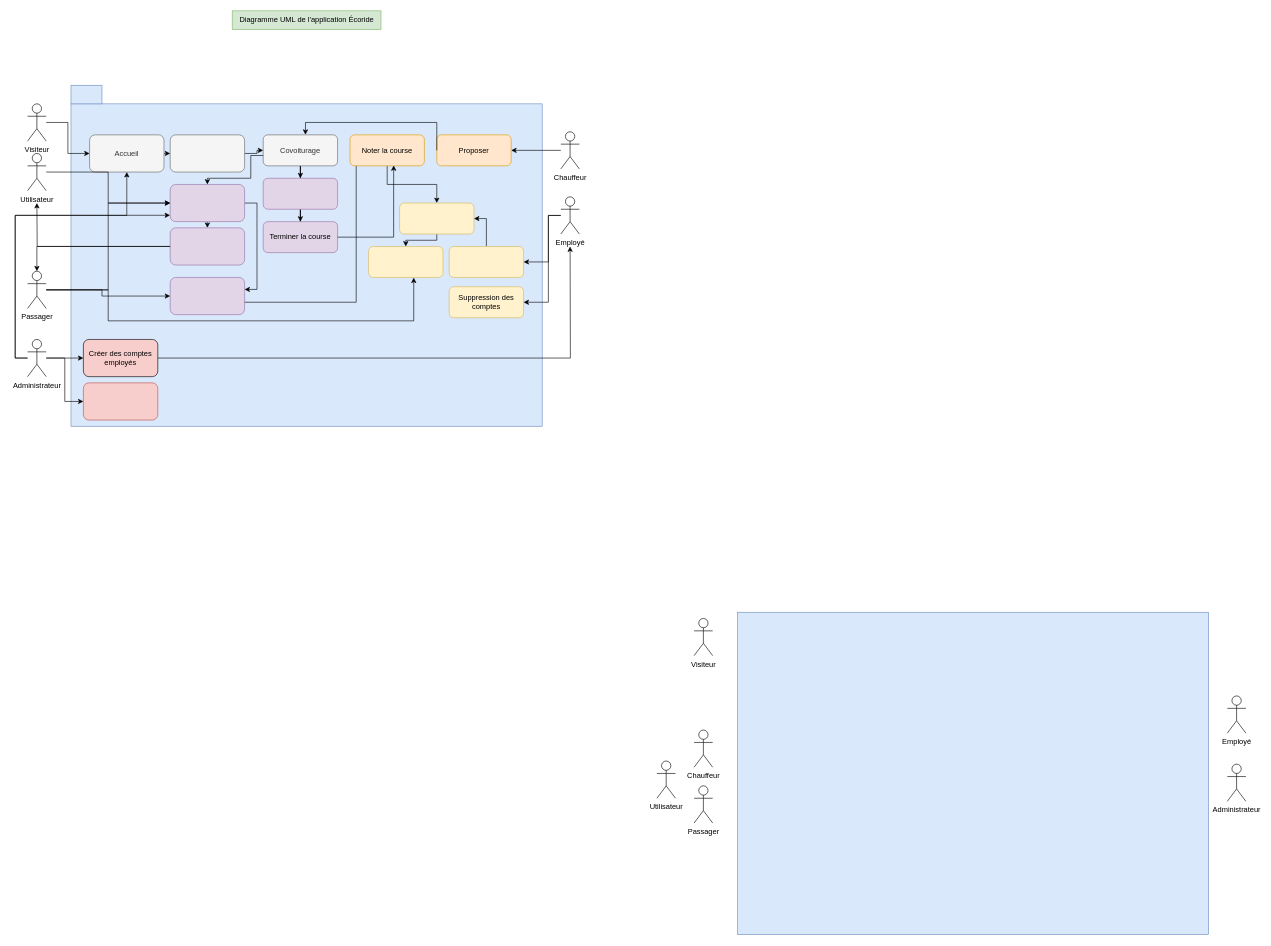
The diagram is 1271 pixels wide and 946 high, and some of its shapes have lost their labels. Each missing label, with the box of its shape:
Accès aux stats avec le dashboard: (83, 382, 158, 420)
APP: (70, 85, 102, 104)
Créer un compte Choisir son rôle: (170, 227, 245, 265)
Démarrer le covoiturage: (263, 178, 338, 209)
Gestion des litiges: (449, 246, 524, 277)
Litige: (399, 202, 474, 234)
Participer: (170, 277, 245, 315)
Rechercher: (170, 134, 245, 172)
Remboursement: (368, 246, 443, 277)
Se connecter / S'inscrire: (170, 184, 245, 222)
